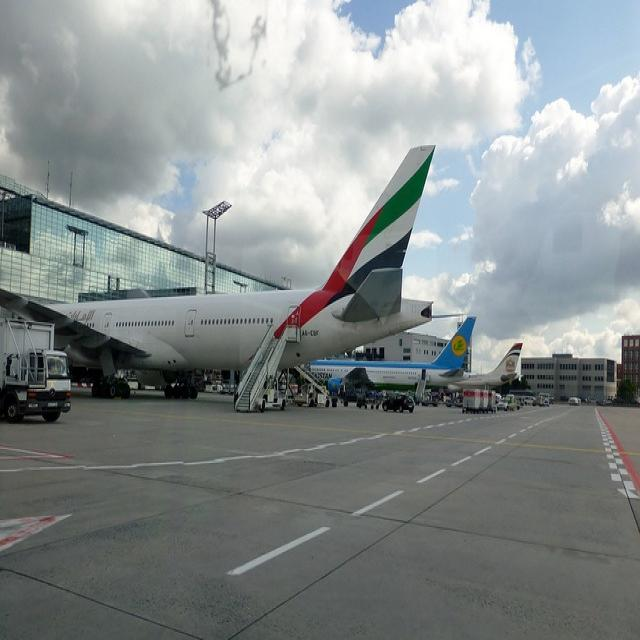car: (381, 392, 413, 411), (495, 397, 516, 410), (566, 390, 581, 403), (583, 395, 595, 400)
truck: (0, 315, 69, 421)
